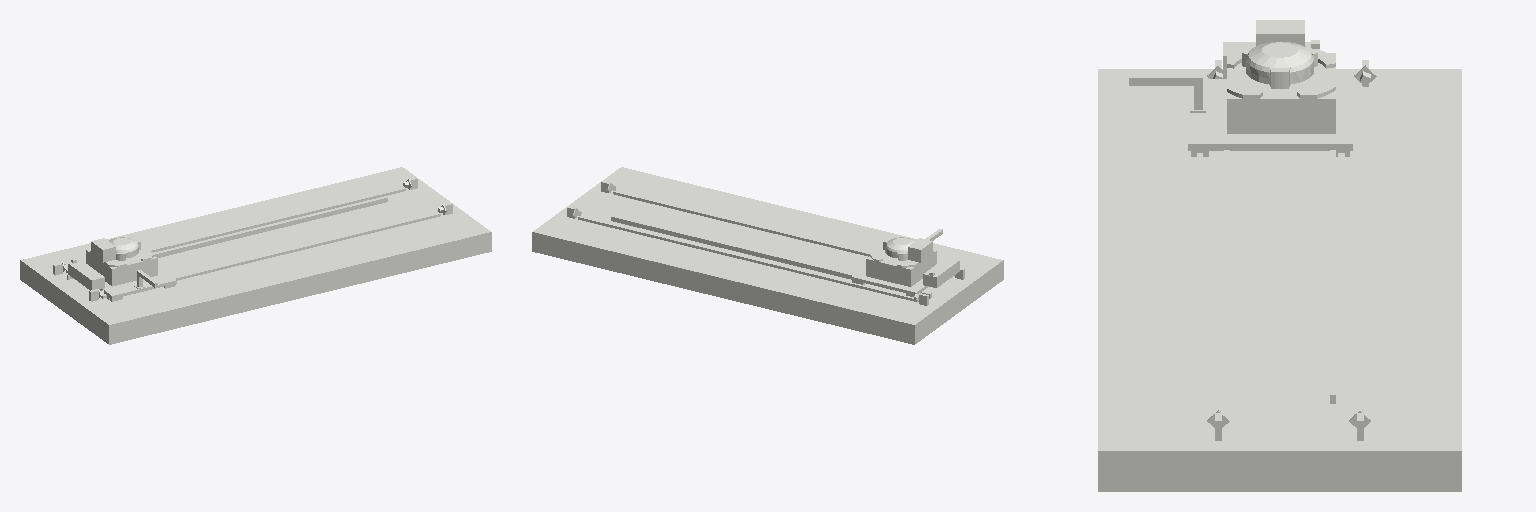
robot.urdf — abb_fabtory:
<?xml version="1.0" ?>
<!-- =================================================================================== -->
<!-- |    This document was autogenerated by xacro from abb_fabtory.xacro          | -->
<!-- |    EDITING THIS FILE BY HAND IS NOT RECOMMENDED                                 | -->
<!-- =================================================================================== -->
<robot name="abb_fabtory" xmlns:xacro="http://ros.org/wiki/xacro">
  <!-- Conversion were obtained from http://www.e-paint.co.uk/Lab_values.asp
       unless otherwise stated. -->
  <!-- Conversion were obtained from http://www.e-paint.co.uk/Lab_values.asp
       unless otherwise stated. -->
  <link name="world"/>
  <joint name="world_joint" type="fixed">
    <parent link="world"/>
    <child link="axis"/>
    <origin rpy="0.0 0.0 0.0" xyz="0.0 0.0 0.0"/>
  </joint>
  <link name="axis">
    <inertial>
      <origin xyz="0.0 0.0 0.0"/>
      <mass value="120"/>
      <inertia ixx="-4.98000" ixy="-0.00000" ixz="2.70000" iyy="-5.95200" iyz="-0.00000" izz="0.82800"/>
    </inertial>
    <visual>
      <geometry>
        <mesh filename="package://abb_fabtory/meshes/visual/axis_abb_irb6700.stl"/>
      </geometry>
      <material name="">
        <color rgba="0.9254902 0.9254902 0.9058824 1"/>
      </material>
    </visual>
    <collision>
      <geometry>
        <mesh filename="package://abb_fabtory/meshes/collision/axis_abb_irb6700.stl"/>
      </geometry>
    </collision>
  </link>
  <link name="cart">
    <inertial>
      <origin xyz="0.0 0.0 0.0"/>
      <mass value="120.00000"/>
      <inertia ixx="-4.98000" ixy="-0.00000" ixz="2.70000" iyy="-5.95200" iyz="-0.00000" izz="0.82800"/>
    </inertial>
    <visual>
      <geometry>
        <mesh filename="package://abb_fabtory/meshes/visual/cart_abb_irb6700.stl"/>
      </geometry>
      <material name="">
        <color rgba="0.9254902 0.9254902 0.9058824 1"/>
      </material>
    </visual>
    <collision>
      <geometry>
        <mesh filename="package://abb_fabtory/meshes/collision/cart_abb_irb6700.stl"/>
      </geometry>
    </collision>
  </link>
  <joint name="axis_joint" type="prismatic">
    <parent link="axis"/>
    <child link="cart"/>
    <origin rpy="0 0 0 " xyz="0 0 0"/>
    <axis xyz="1 0 0"/>
    <limit effort="100000" lower="0.0" upper="4.2" velocity="2.618"/>
    <dynamics damping="0.2" friction="0"/>
  </joint>
  <joint name="abb_joint" type="fixed">
    <parent link="cart"/>
    <child link="base_link"/>
    <origin rpy="0 0 0 " xyz="0 0 0 "/>
    <dynamics damping="0.2" friction="0"/>
  </joint>
<!-- link list -->
<link name="base_link">
    <visual>
      <origin rpy="0 0 0" xyz="0 0 0"/>
      <geometry>
        <mesh filename="package://abb_irb6700_support/meshes/irb6700/visual/base_link.stl"/>
      </geometry>
      <material name="">
        <color rgba="0.9254902 0.9254902 0.9058824 1"/>
      </material>
    </visual>
    <collision>
      <origin rpy="0 0 0" xyz="0 0 0"/>
      <geometry>
        <mesh filename="package://abb_irb6700_support/meshes/irb6700/collision/base_link.stl"/>
      </geometry>
      <material name="">
        <color rgba="1 1 0 1"/>
      </material>
    </collision>
  </link>
  <link name="link_1">
    <visual>
      <origin rpy="0 0 0" xyz="0 0 0"/>
      <geometry>
        <mesh filename="package://abb_irb6700_support/meshes/irb6700/visual/link_1.stl"/>
      </geometry>
      <material name="">
        <color rgba="0.9254902 0.9254902 0.9058824 1"/>
      </material>
    </visual>
    <collision>
      <origin rpy="0 0 0" xyz="0 0 0"/>
      <geometry>
        <mesh filename="package://abb_irb6700_support/meshes/irb6700/collision/link_1.stl"/>
      </geometry>
      <material name="">
        <color rgba="1 1 0 1"/>
      </material>
    </collision>
  </link>
  <link name="cylinder">
    <visual>
      <origin rpy="0 0 0" xyz="0 0 0"/>
      <geometry>
        <mesh filename="package://abb_irb6700_support/meshes/irb6700/visual/cylinder.stl"/>
      </geometry>
      <material name="">
        <color rgba="0.9254902 0.9254902 0.9058824 1"/>
      </material>
    </visual>
    <collision>
      <origin rpy="0 0 0" xyz="0 0 0"/>
      <geometry>
        <mesh filename="package://abb_irb6700_support/meshes/irb6700/collision/cylinder.stl"/>
      </geometry>
      <material name="">
        <color rgba="1 1 0 1"/>
      </material>
    </collision>
  </link>
  <link name="piston">
    <visual>
      <origin rpy="0 0 0" xyz="0 0 0"/>
      <geometry>
        <mesh filename="package://abb_irb6700_support/meshes/irb6700/visual/piston.stl"/>
      </geometry>
      <material name="">
        <color rgba="0.9254902 0.9254902 0.9058824 1"/>
      </material>
    </visual>
    <collision>
      <origin rpy="0 0 0" xyz="0 0 0"/>
      <geometry>
        <mesh filename="package://abb_irb6700_support/meshes/irb6700/collision/piston.stl"/>
      </geometry>
      <material name="">
        <color rgba="1 1 0 1"/>
      </material>
    </collision>
  </link>
  <link name="link_2">
    <visual>
      <origin rpy="0 0 0" xyz="0 0 0"/>
      <geometry>
        <mesh filename="package://abb_irb6700_support/meshes/irb6700_150_320/visual/link_2.stl"/>
      </geometry>
      <material name="">
        <color rgba="0.9254902 0.9254902 0.9058824 1"/>
      </material>
    </visual>
    <collision>
      <origin rpy="0 0 0" xyz="0 0 0"/>
      <geometry>
        <mesh filename="package://abb_irb6700_support/meshes/irb6700_150_320/collision/link_2.stl"/>
      </geometry>
      <material name="">
        <color rgba="1 1 0 1"/>
      </material>
    </collision>
  </link>
  <link name="link_3">
    <visual>
      <origin rpy="0 0 0" xyz="0 0 0"/>
      <geometry>
        <mesh filename="package://abb_irb6700_support/meshes/irb6700_150_320/visual/link_3.stl"/>
      </geometry>
      <material name="">
        <color rgba="0.9254902 0.9254902 0.9058824 1"/>
      </material>
    </visual>
    <collision>
      <origin rpy="0 0 0" xyz="0 0 0"/>
      <geometry>
        <mesh filename="package://abb_irb6700_support/meshes/irb6700_150_320/collision/link_3.stl"/>
      </geometry>
      <material name="">
        <color rgba="1 1 0 1"/>
      </material>
    </collision>
  </link>
  <link name="link_4">
    <visual>
      <origin rpy="0 0 0" xyz="0 0 0"/>
      <geometry>
        <mesh filename="package://abb_irb6700_support/meshes/irb6700_150_320/visual/link_4.stl"/>
      </geometry>
      <material name="">
        <color rgba="0.9254902 0.9254902 0.9058824 1"/>
      </material>
    </visual>
    <collision>
      <origin rpy="0 0 0" xyz="0 0 0"/>
      <geometry>
        <mesh filename="package://abb_irb6700_support/meshes/irb6700_150_320/collision/link_4.stl"/>
      </geometry>
      <material name="">
        <color rgba="1 1 0 1"/>
      </material>
    </collision>
  </link>
  <link name="link_5">
    <visual>
      <origin rpy="0 0 0" xyz="0 0 0"/>
      <geometry>
        <mesh filename="package://abb_irb6700_support/meshes/irb6700/visual/link_5.stl"/>
      </geometry>
      <material name="">
        <color rgba="0.9254902 0.9254902 0.9058824 1"/>
      </material>
    </visual>
    <collision>
      <origin rpy="0 0 0" xyz="0 0 0"/>
      <geometry>
        <mesh filename="package://abb_irb6700_support/meshes/irb6700/collision/link_5.stl"/>
      </geometry>
      <material name="">
        <color rgba="1 1 0 1"/>
      </material>
    </collision>
  </link>
  <link name="link_6">
    <visual>
      <origin rpy="0 0 0" xyz="0 0 0"/>
      <geometry>
        <mesh filename="package://abb_irb6700_support/meshes/irb6700/visual/link_6.stl"/>
      </geometry>
      <material name="">
        <color rgba="0.9254902 0.9254902 0.9058824 1"/>
      </material>
    </visual>
    <collision>
      <origin rpy="0 0 0" xyz="0 0 0"/>
      <geometry>
        <mesh filename="package://abb_irb6700_support/meshes/irb6700/collision/link_6.stl"/>
      </geometry>
      <material name="">
        <color rgba="1 1 0 1"/>
      </material>
    </collision>
  </link>
  <joint name="joint_1" type="revolute">
    <origin rpy="0 0 0" xyz="0 0 0.78"/>
    <parent link="base_link"/>
    <child link="link_1"/>
    <axis xyz="0 0 1"/>
    <limit effort="0" lower="-2.96705972839" upper="2.96705972839" velocity="1.91986217719"/>
  </joint>
  <joint name="joint_2" type="revolute">
    <origin rpy="0 0 0" xyz="0.32 0 0"/>
    <parent link="link_1"/>
    <child link="link_2"/>
    <axis xyz="0 1 0"/>
    <limit effort="0" lower="-1.1344640138" upper="1.4835298642" velocity="1.91986217719"/>
  </joint>
  <joint name="joint_3" type="revolute">
    <origin rpy="0 0 0" xyz="0 0 1.280"/>
    <parent link="link_2"/>
    <child link="link_3"/>
    <axis xyz="0 1 0"/>
    <limit effort="0" lower="-3.14159265359" upper="1.2217304764" velocity="1.91986217719"/>
  </joint>
  <joint name="joint_4" type="revolute">
    <origin rpy="0 0 0" xyz="0 0 0.2"/>
    <parent link="link_3"/>
    <child link="link_4"/>
    <axis xyz="1 0 0"/>
    <limit effort="0" lower="-5.23598775598" upper="5.23598775598" velocity="3.31612557879"/>
  </joint>
  <joint name="joint_5" type="revolute">
    <origin rpy="0 0 0" xyz="1.593 0 0"/>
    <parent link="link_4"/>
    <child link="link_5"/>
    <axis xyz="0 1 0"/>
    <limit effort="0" lower="-2.26892802759" upper="2.26892802759" velocity="2.61799387799"/>
  </joint>
  <joint name="joint_6" type="revolute">
    <origin rpy="0 0 0" xyz="0.2 0 0"/>
    <parent link="link_5"/>
    <child link="link_6"/>
    <axis xyz="1 0 0"/>
    <limit effort="0" lower="-6.28318530718" upper="6.28318530718" velocity="3.66519142919"/>
  </joint>
  <joint name="cylinder_joint" type="revolute">
    <origin rpy="0 0 0" xyz="-0.349 -0.194 -0.142"/>
    <parent link="link_1"/>
    <child link="cylinder"/>
    <axis xyz="0 1 0"/>
    <mimic joint="joint_2" multiplier="-0.25"/>
    <limit effort="0" lower="-0.283616003449" upper="0.370882466049" velocity="100"/>
  </joint>
  <joint name="piston_joint" type="prismatic">
    <origin rpy="0.20897 0 -1.57079632679" xyz="0 0 0"/>
    <parent link="cylinder"/>
    <child link="piston"/>
    <axis xyz="0 1 0"/>
    <mimic joint="joint_2" multiplier="0.15"/>
    <limit effort="0" lower="-0.25" upper="0.25" velocity="100"/>
  </joint>
  <!-- ROS-Industrial 'base' frame: base_link to ABB World Coordinates transform -->
  <link name="base"/>
  <joint name="base_link-base" type="fixed">
    <origin rpy="0 0 0" xyz="0 0 0"/>
    <parent link="base_link"/>
    <child link="base"/>
  </joint>
  <!-- ROS-Industrial 'flange' frame: attachment point for EEF models -->
  <link name="flange"/>
  <joint name="joint_6-flange" type="fixed">
    <origin rpy="0 0 0" xyz="0 0 0"/>
    <parent link="link_6"/>
    <child link="flange"/>
  </joint>
  <!-- ROS-Industrial 'tool0' frame: all-zeros tool frame -->
  <link name="tool0"/>
  <joint name="link_6-tool0" type="fixed">
    <origin rpy="0 1.57079632679 0" xyz="0 0 0"/>
    <parent link="flange"/>
    <child link="tool0"/>
  </joint>
  <!-- end of joint list -->
</robot>

--- What the picture shows (computed from the rendered views, not written in the file) ---
The picture shows the robot from 3 angles, left to right: view 1: azimuth 30°, elevation 25°; view 2: azimuth 150°, elevation 25°; view 3: azimuth 270°, elevation 25°; orthographic projection.
Model abb_fabtory with 15 links and 14 joints (7 revolute, 2 prismatic, 5 fixed), rooted at world, posed all joints at 0.
Visible links, largest first — view 1: axis, cart, base_link; view 2: axis, cart, base_link; view 3: axis, cart, base_link.
Boxes of the visible links, x1=… form: axis: x1=20, y1=167, x2=491, y2=344; cart: x1=68, y1=246, x2=176, y2=301; base_link: x1=91, y1=237, x2=140, y2=262; axis: x1=532, y1=167, x2=1003, y2=344; cart: x1=852, y1=229, x2=959, y2=296; base_link: x1=883, y1=237, x2=932, y2=262; axis: x1=1098, y1=60, x2=1461, y2=491; cart: x1=1129, y1=40, x2=1352, y2=156; base_link: x1=1242, y1=20, x2=1317, y2=88.
Size in the robot's own frame: 6.06 by 2.44 by 0.973 metres.
3 mesh visuals loaded from 11 distinct referenced files (3 binary STL); not drawn: 8 (reference not matched to a file when rendering).